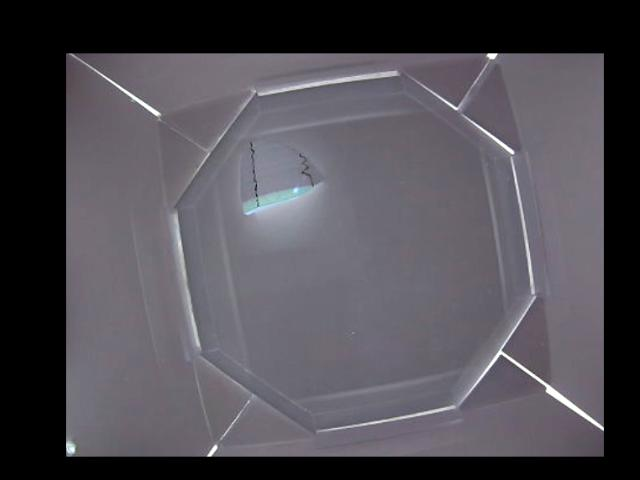China: (241, 139, 323, 214)
